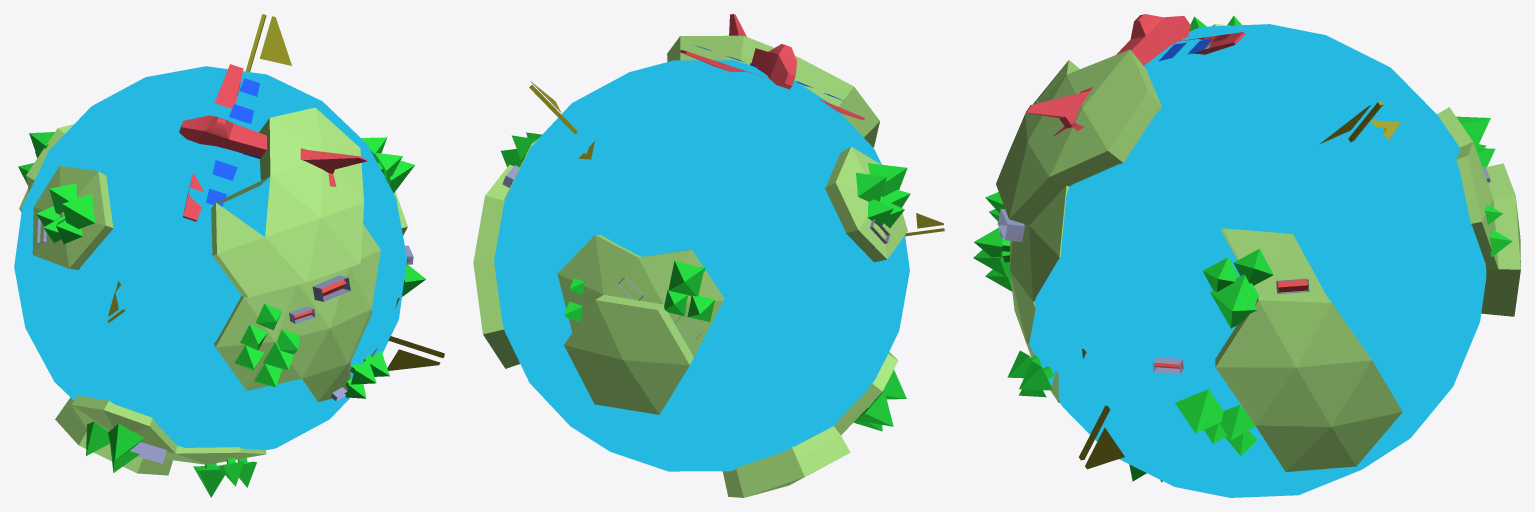
File: low_poly_planet.glb
3 views of the same model, side by side, from view 1: azimuth 30°, elevation 25°; view 2: azimuth 150°, elevation 25°; view 3: azimuth 270°, elevation 25° (orthographic). The views are drawn at different scales.
Visible parts, largest first — view 1: Icosphere.001_1, Icosphere_0, Plane.003_3, Plane.002_2, Plane.045_39, Plane.032_32, Plane.011_11, Plane.046_42, Plane.013_13, Plane.010_10, Plane.031_31, Plane.009_8 (+2 smaller); view 2: Icosphere.001_1, Icosphere_0, Plane.003_3, Plane.017_17, Plane.032_32, Plane.031_31, Plane.010_10, Plane.002_2, Plane.016_16; view 3: Icosphere.001_1, Icosphere_0, Plane.003_3, Plane.023_23, Plane.027_27, Plane.045_39, Plane.002_2, Plane.021_21, Plane.026_26, Plane.022_22, Plane.029_29, Plane.004_9.
Part boxes in pixels (left/top/right/bottom): Icosphere.001_1: left=14, top=66, right=406, bottom=450; Icosphere_0: left=19, top=107, right=407, bottom=475; Plane.003_3: left=179, top=64, right=367, bottom=221; Plane.002_2: left=245, top=14, right=291, bottom=71; Plane.045_39: left=387, top=298, right=444, bottom=370; Plane.032_32: left=62, top=194, right=95, bottom=228; Plane.011_11: left=108, top=423, right=144, bottom=459; Plane.046_42: left=312, top=275, right=350, bottom=301; Plane.013_13: left=193, top=463, right=224, bottom=497; Plane.010_10: left=86, top=421, right=110, bottom=455; Plane.031_31: left=49, top=183, right=76, bottom=214; Plane.009_8: left=263, top=342, right=294, bottom=369; Icosphere.001_1: left=494, top=60, right=909, bottom=471; Icosphere_0: left=473, top=35, right=907, bottom=497; Plane.003_3: left=680, top=14, right=864, bottom=120; Plane.017_17: left=668, top=260, right=705, bottom=296; Plane.032_32: left=868, top=163, right=907, bottom=196; Plane.031_31: left=856, top=172, right=886, bottom=201; Plane.010_10: left=856, top=390, right=893, bottom=426; Plane.002_2: left=529, top=81, right=594, bottom=159; Plane.016_16: left=687, top=295, right=714, bottom=321; Icosphere.001_1: left=1029, top=24, right=1486, bottom=497; Icosphere_0: left=996, top=24, right=1520, bottom=471; Plane.003_3: left=1026, top=14, right=1245, bottom=135; Plane.023_23: left=1210, top=275, right=1259, bottom=328; Plane.027_27: left=1175, top=389, right=1223, bottom=432; Plane.045_39: left=1079, top=348, right=1124, bottom=469; Plane.002_2: left=1319, top=100, right=1400, bottom=144; Plane.021_21: left=1233, top=249, right=1273, bottom=285; Plane.026_26: left=1220, top=405, right=1255, bottom=440; Plane.022_22: left=1203, top=257, right=1238, bottom=291; Plane.029_29: left=1019, top=361, right=1054, bottom=390; Plane.004_9: left=974, top=227, right=1010, bottom=258.
Size of the model in its own units: 2.35 by 2.37 by 2.44.
